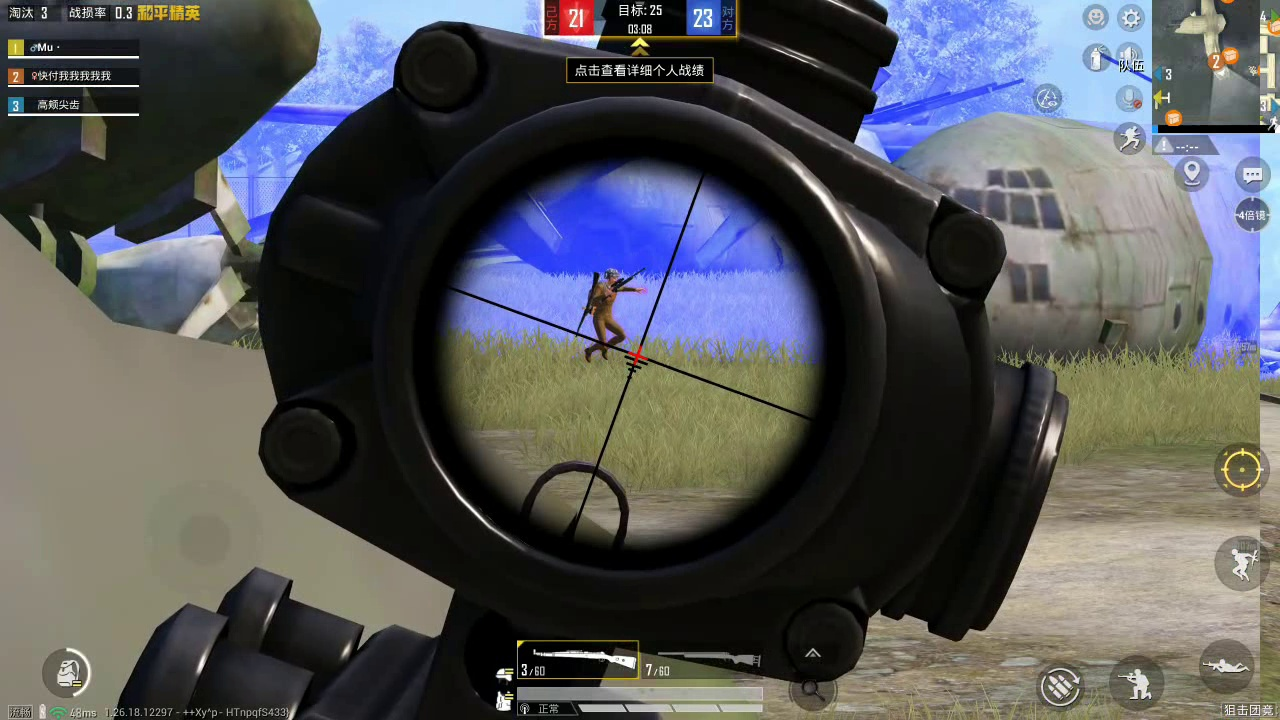enemy: (586, 267, 633, 360)
